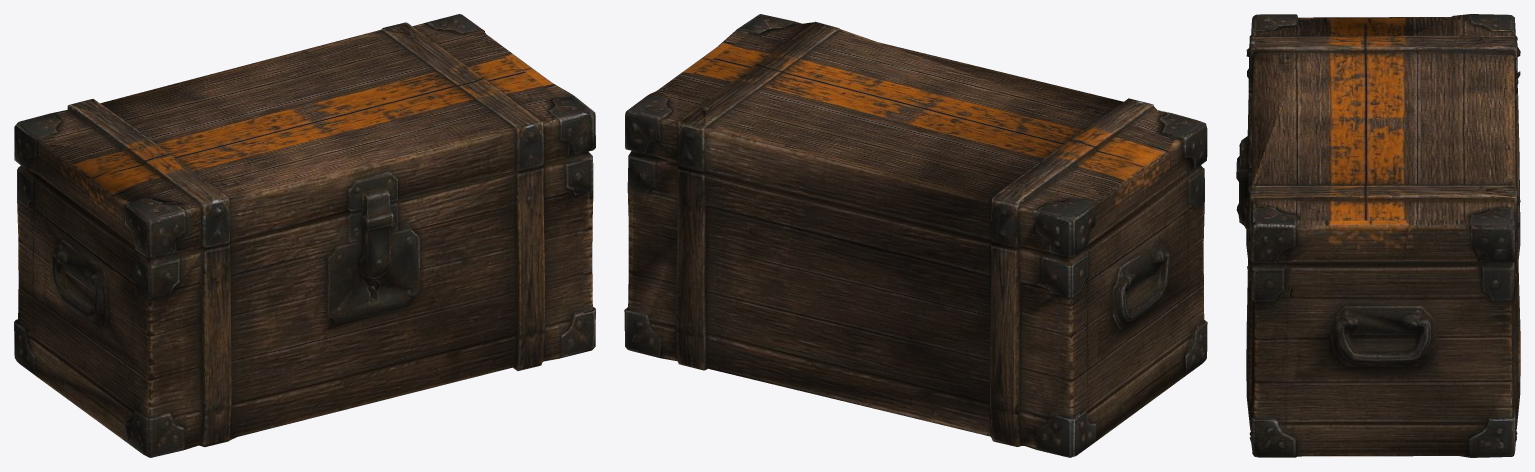
File: woodchest.glb
The picture shows the model from 3 angles, left to right: view 1: azimuth 30°, elevation 25°; view 2: azimuth 150°, elevation 25°; view 3: azimuth 270°, elevation 25°; orthographic projection. The views are drawn at different scales.
Parts seen in each view (by area): view 1: Mesh_0; view 2: Mesh_0; view 3: Mesh_0.
Part boxes in pixels (bbox=[...]): Mesh_0: bbox=[14, 14, 595, 457]; Mesh_0: bbox=[624, 14, 1207, 457]; Mesh_0: bbox=[1236, 14, 1520, 457].
Bounding box in the file's own units: 1.9 × 0.9875 × 1.04.
Materials: 1 (1 with a texture image).
